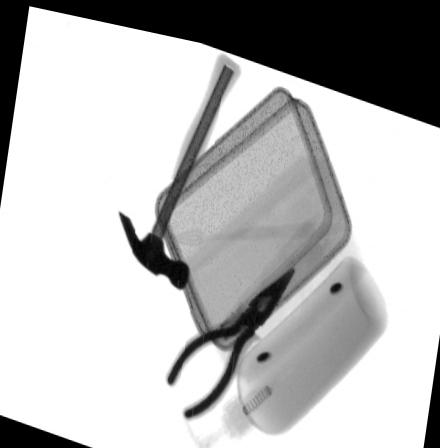Hammer: (117, 41, 242, 282)
Pliers: (165, 253, 293, 414)
